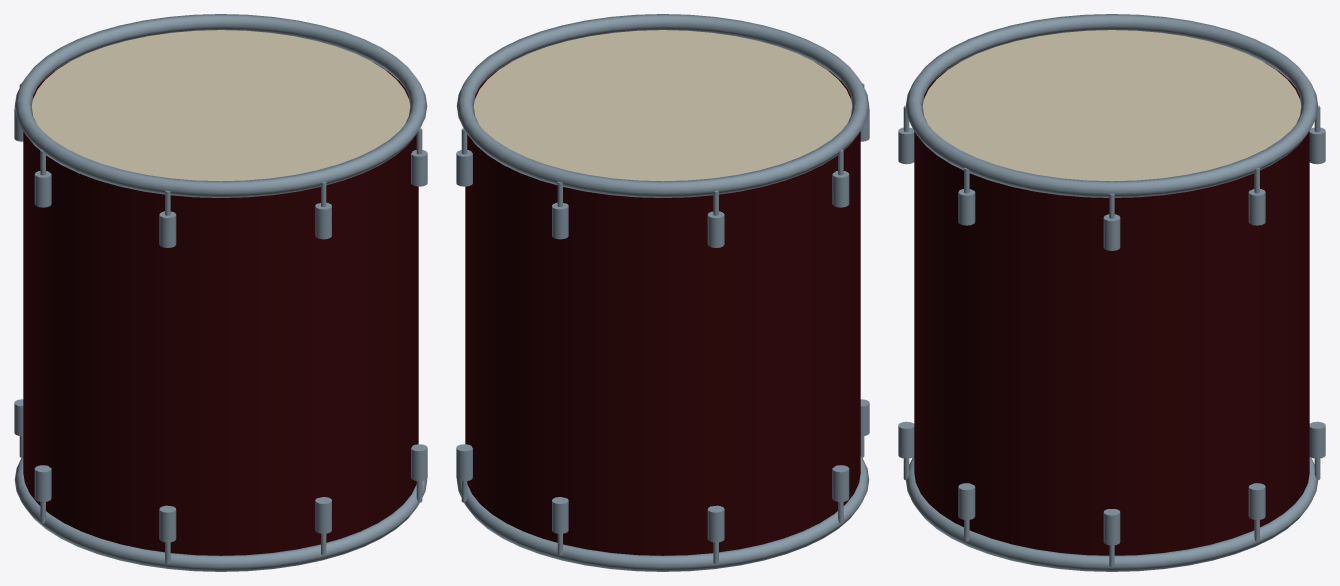
File: FloorTom.obj
3 views of the same model, side by side, from view 1: azimuth 30°, elevation 25°; view 2: azimuth 150°, elevation 25°; view 3: azimuth 270°, elevation 25° (orthographic).
Parts seen in each view (by area): view 1: FloorTom_shell.001; view 2: FloorTom_shell.001; view 3: FloorTom_shell.001.
Part boxes in pixels (x1=…): FloorTom_shell.001: x1=14, y1=14, x2=427, y2=571; FloorTom_shell.001: x1=456, y1=14, x2=869, y2=571; FloorTom_shell.001: x1=898, y1=14, x2=1325, y2=571.
Size of the model in its own units: 0.454 by 0.4536 by 0.454.
